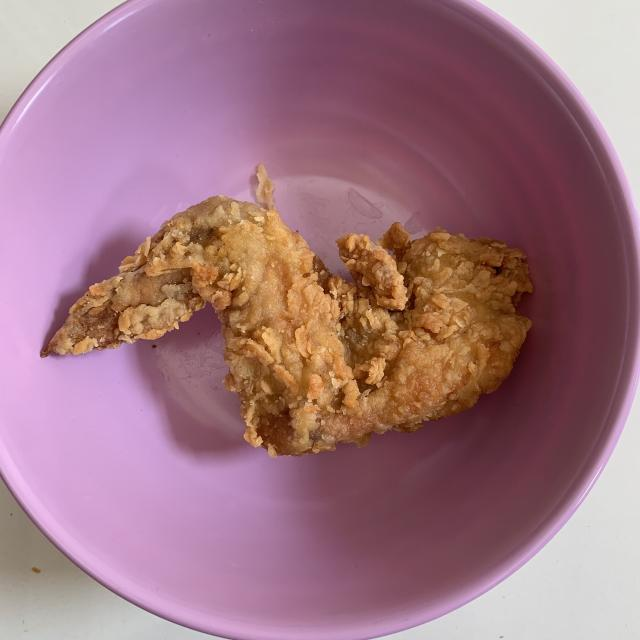Frango: (51, 202, 534, 458)
